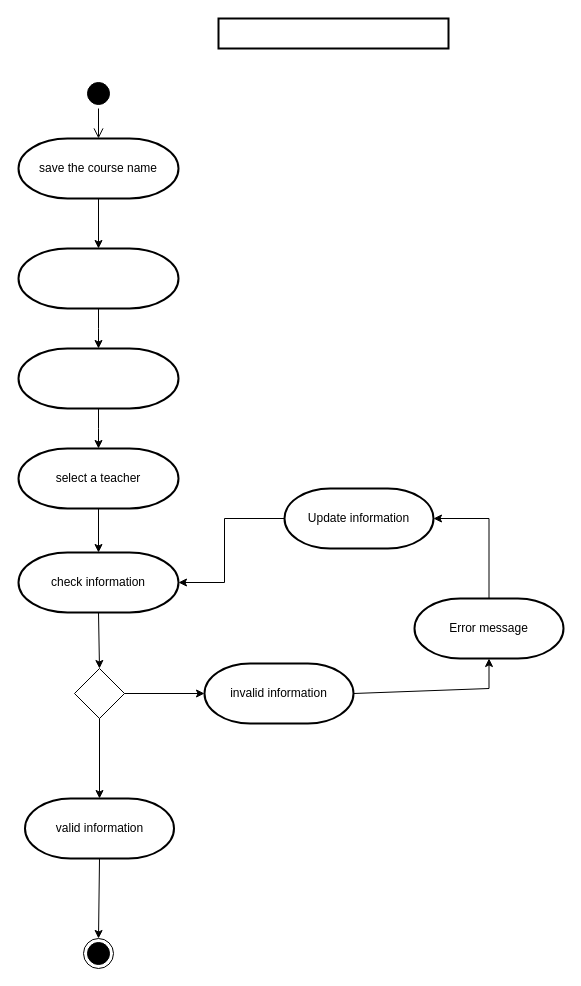
This 581x986 diagram has some shape labels left out. Each missing label, with the centre of its shape:
Activity Diagram : Manage a course: the point at 333,33
enter end date: the point at 98,378
enter start date: the point at 98,278
